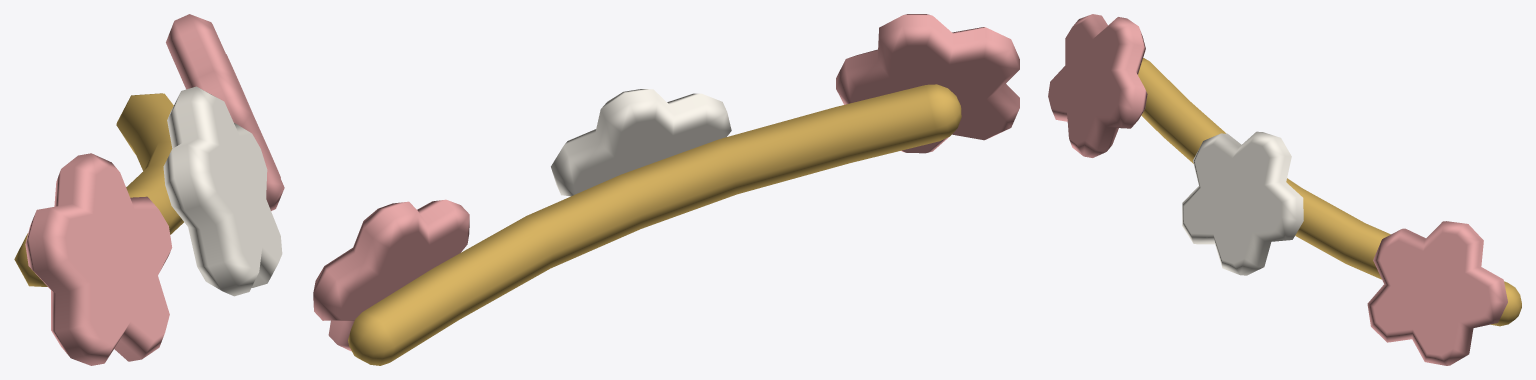
Rendered from barrette.glb.
3 renders of one model, left to right at view 1: azimuth 30°, elevation 25°; view 2: azimuth 150°, elevation 25°; view 3: azimuth 270°, elevation 25°, orthographic. The views are drawn at different scales.
Visible parts, largest first — view 1: barrette_Head; view 2: barrette_Head; view 3: barrette_Head.
Part boxes in pixels (<box>): barrette_Head: <box>14,14,284,365</box>; barrette_Head: <box>313,14,1019,365</box>; barrette_Head: <box>1048,14,1521,365</box>.
Size of the model in its own units: 0.2129 by 0.1229 by 0.2517.
